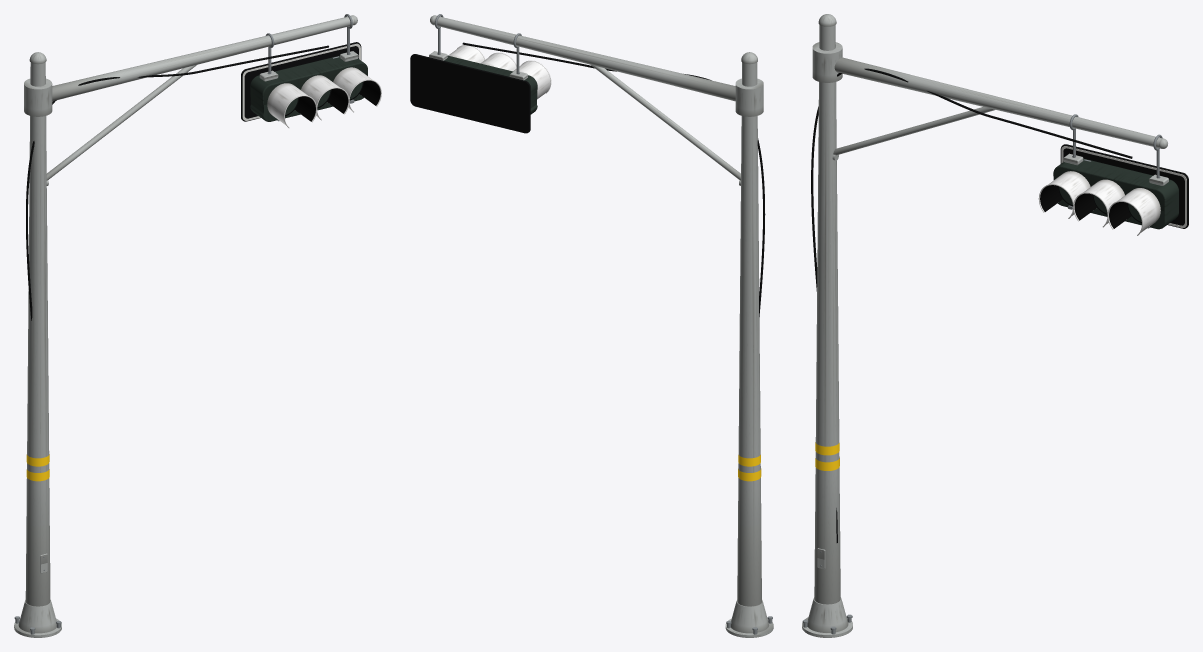
3 views of the same model, side by side, from view 1: azimuth 30°, elevation 25°; view 2: azimuth 150°, elevation 25°; view 3: azimuth 330°, elevation 25° (orthographic). The views are drawn at different scales.
Parts seen in each view (by area): view 1: jp-veh-h300-arm, opt_backplate_on; view 2: jp-veh-h300-arm, opt_backplate_on; view 3: jp-veh-h300-arm, opt_backplate_on.
Boxes of the visible parts, x1,y1,x2,y2 form: jp-veh-h300-arm: (14,14,381,637); opt_backplate_on: (241,42,361,121); jp-veh-h300-arm: (429,14,773,637); opt_backplate_on: (410,54,530,133); jp-veh-h300-arm: (802,14,1178,637); opt_backplate_on: (1060,144,1188,228).
Bounding box in the file's own units: 4.02 × 6.28 × 0.7127.
17 materials, 3 textured.
